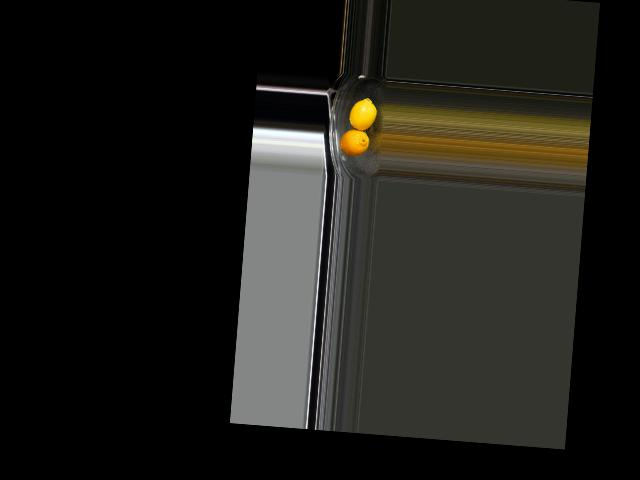lemon: (347, 94, 377, 134)
